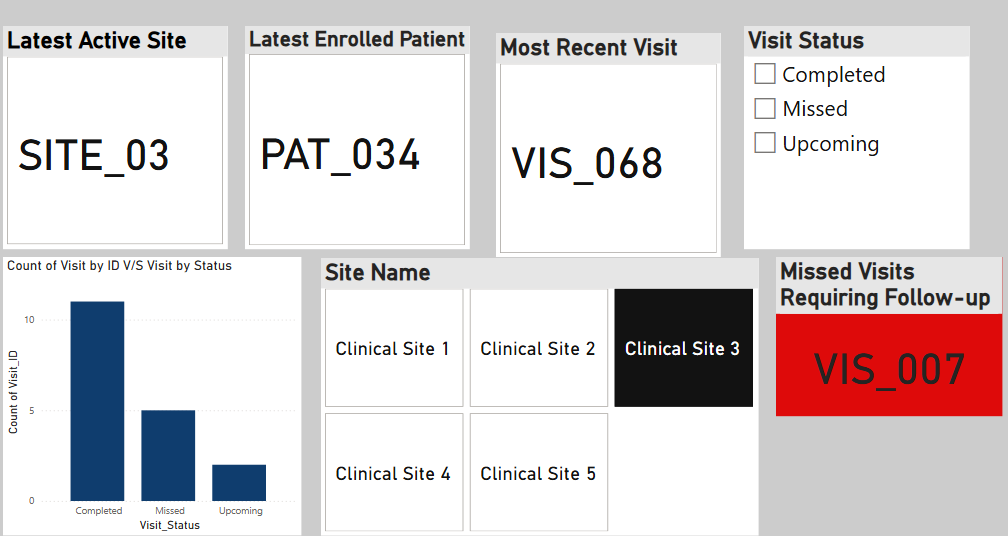

Layout of this report page (visuals, bound fields, positions):
{"tool":"powerbi","page":{"name":"core dashboard","canvas":[1280,720],"ordinal":0},"visuals":[{"type":"cardVisual","title":"Latest Active Site","fields":{"Data":["Max(sites_clean.Site_ID)"]},"box":[8.4,63.8,280.5,278.8],"z":0},{"type":"cardVisual","title":"Latest Enrolled Patient","fields":{"Data":["Max(patients_clean.Patient_ID)"]},"box":[311,63.4,280.8,279.4],"z":1000},{"type":"cardVisual","title":"Most Recent Visit","fields":{"Data":["Max(visits_clean.Visit_ID)"]},"box":[624.4,72,281.5,280.1],"z":2000},{"type":"clusteredColumnChart","title":"Count of Visit by ID V/S Visit by Status","fields":{"Y":["CountNonNull(visits_clean.Visit_ID)"],"Category":["visits_clean.Visit_Status"]},"box":[8.4,352.8,372.9,348],"z":3000},{"type":"advancedSlicerVisual","title":"Site Name","fields":{"Values":["sites_clean.Site_Name"]},"box":[406.1,354.2,547.2,347],"z":4000},{"type":"slicer","title":"Visit Status","fields":{"Values":["visits_clean.Visit_Status"]},"box":[934.6,63.4,282.2,279.4],"z":5000},{"type":"card","title":"Missed Visits Requiring Follow-up","fields":{"Values":["Min(visits_clean.Visit_ID)"]},"box":[975,352.5,282.5,198.8],"z":6000}]}

Visuals, with their boxes on the page's 1280x720 design canvas (x1, y1, x2, y2). These are canvas units, not pixel positions in the 1008x536 screenshot, which may show the page scaled, cropped or inside an application window:
"Latest Active Site" cardVisual: l=8, t=64, r=289, b=343
"Latest Enrolled Patient" cardVisual: l=311, t=63, r=592, b=343
"Most Recent Visit" cardVisual: l=624, t=72, r=906, b=352
"Count of Visit by ID V/S Visit by Status" clusteredColumnChart: l=8, t=353, r=381, b=701
"Site Name" advancedSlicerVisual: l=406, t=354, r=953, b=701
"Visit Status" slicer: l=935, t=63, r=1217, b=343
"Missed Visits Requiring Follow-up" card: l=975, t=352, r=1258, b=551
